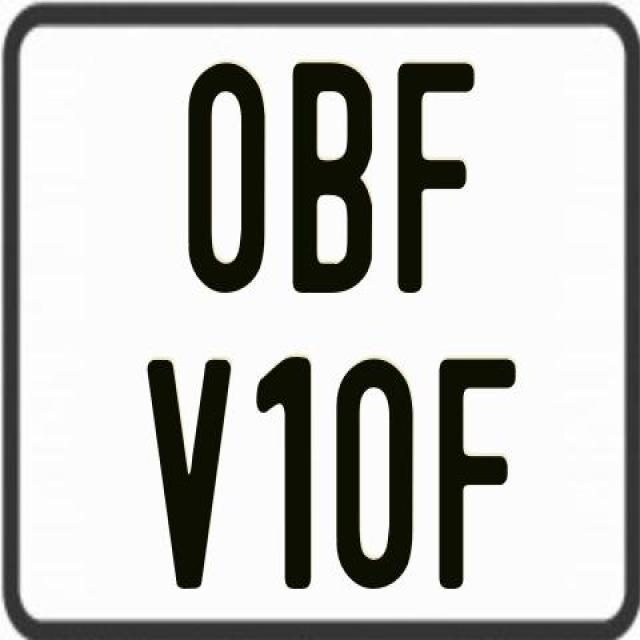0: (184, 61, 267, 292), (334, 357, 414, 589)
1: (256, 354, 312, 588)
B: (293, 59, 380, 293)
F: (394, 58, 478, 292), (438, 356, 520, 590)
V: (145, 357, 228, 590)
